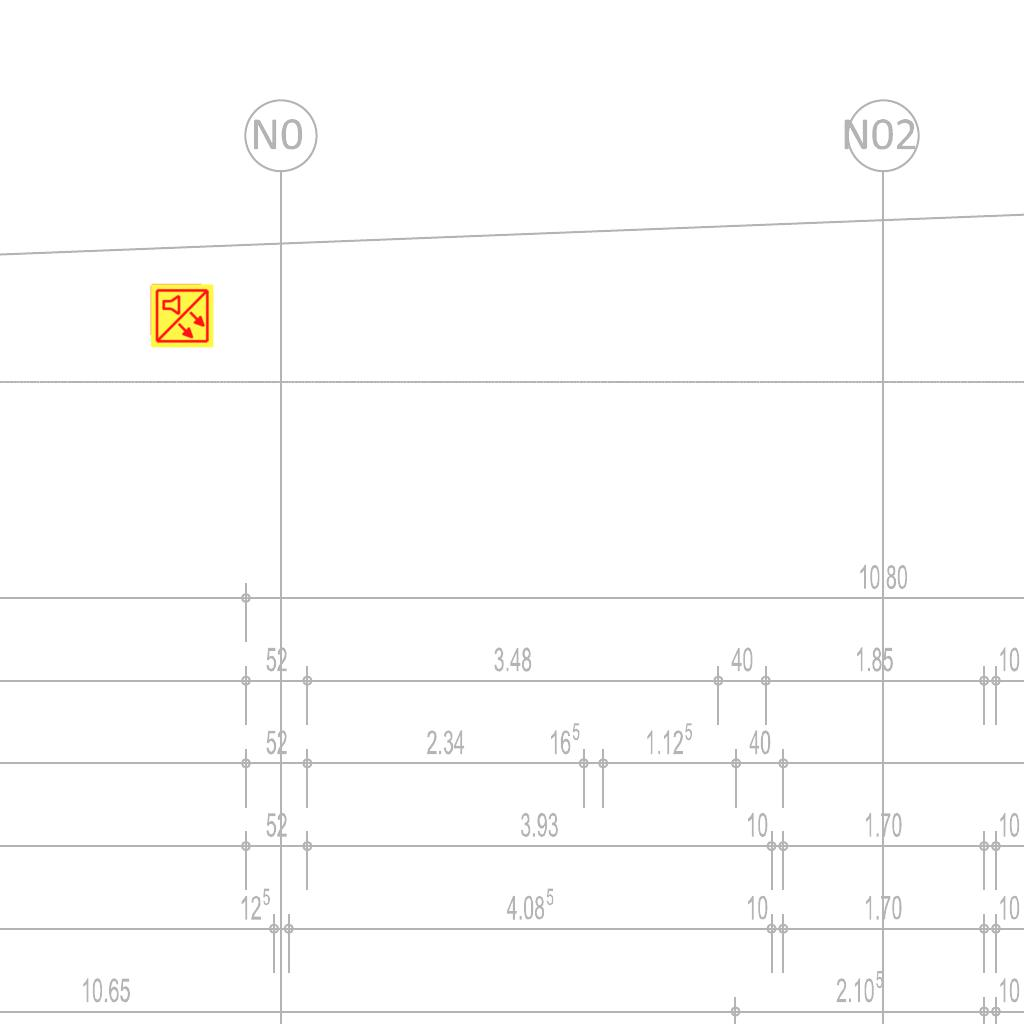OKW_Multisensormelder_(Kombination_optischer_Rauch-Kahlenmonoxid_Waerme-Melder): (149, 283, 215, 349)
